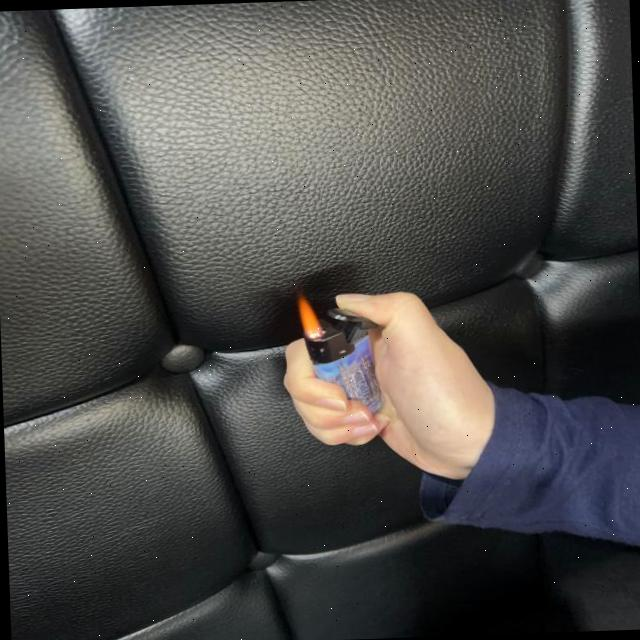fire: (296, 294, 325, 340)
